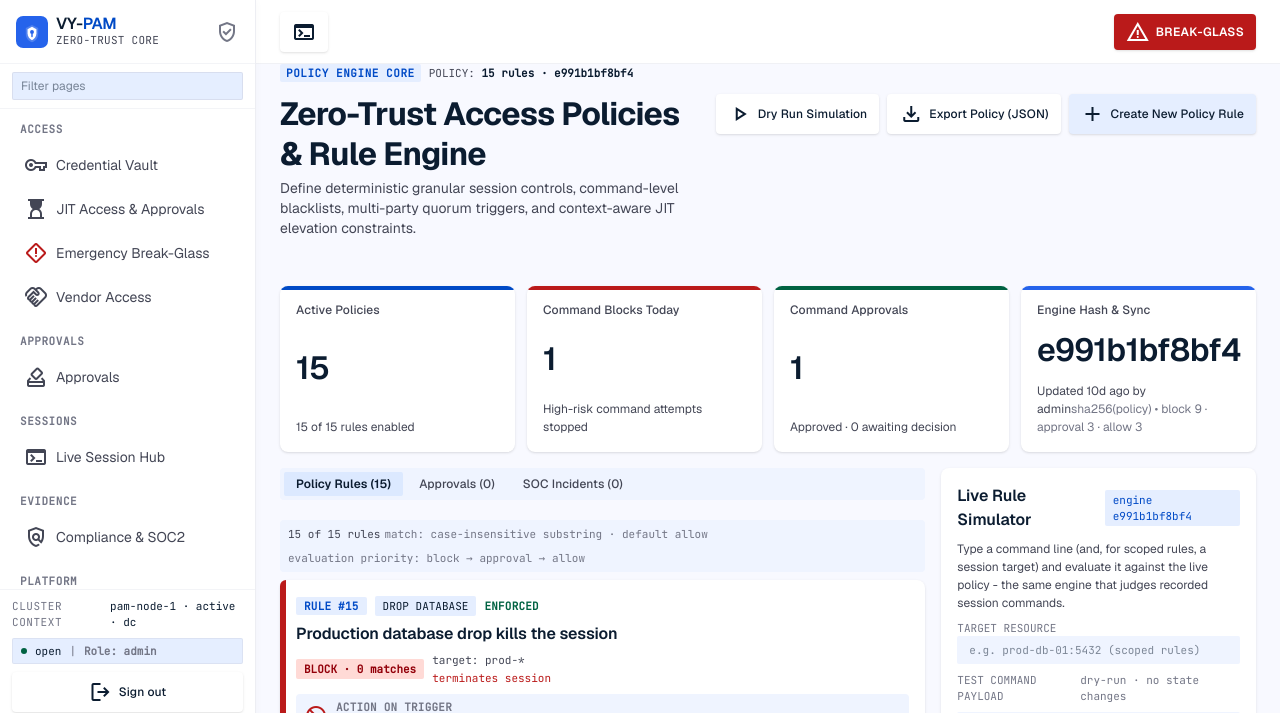
Policy & Zero Trust (F4 screen 5) › approvals tab: the two held commands with session and event evidence
Press the mouse on the tab "Approvals (0)" at (457, 484), box [407,472,507,496]
(page scrolled)
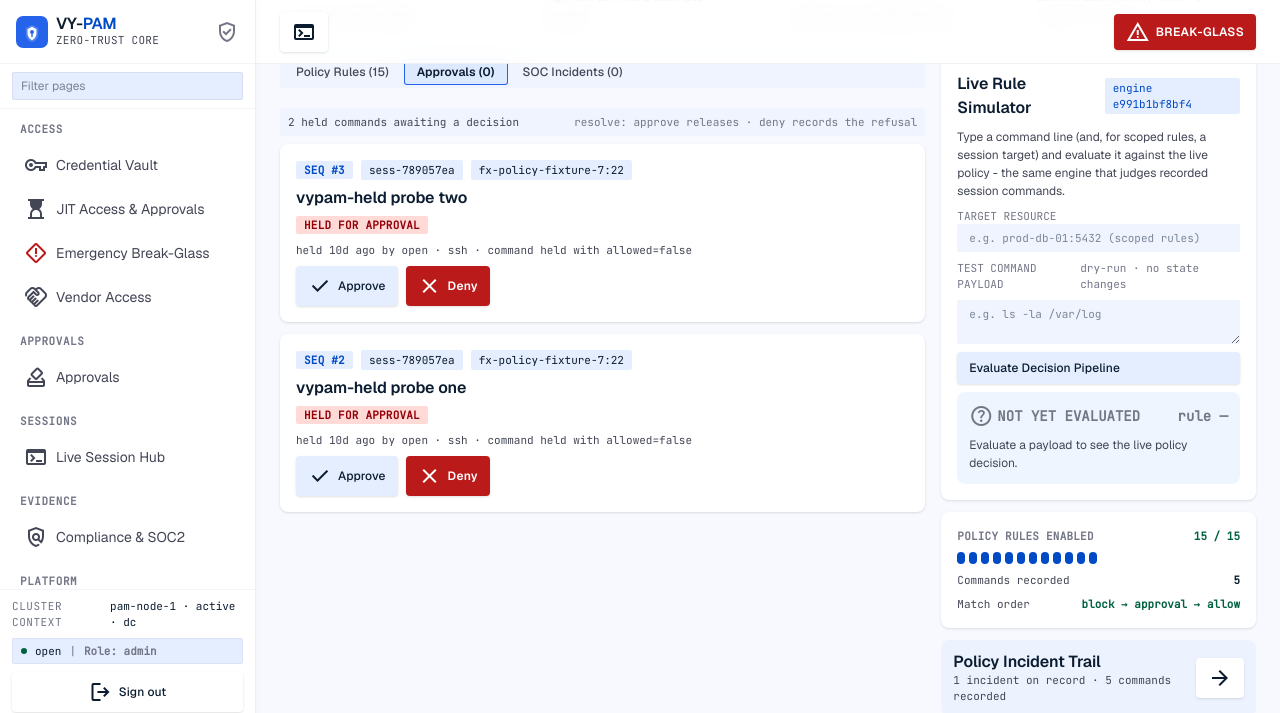
Check: the text "2 held commands awaiting a decision" is shown, box [288,114,519,130]
Check: the text "resolve: approve releases · deny records the refusal" is shown, box [574,114,917,130]
Check: the text "Seq #3" is shown, box [296,161,353,179]
